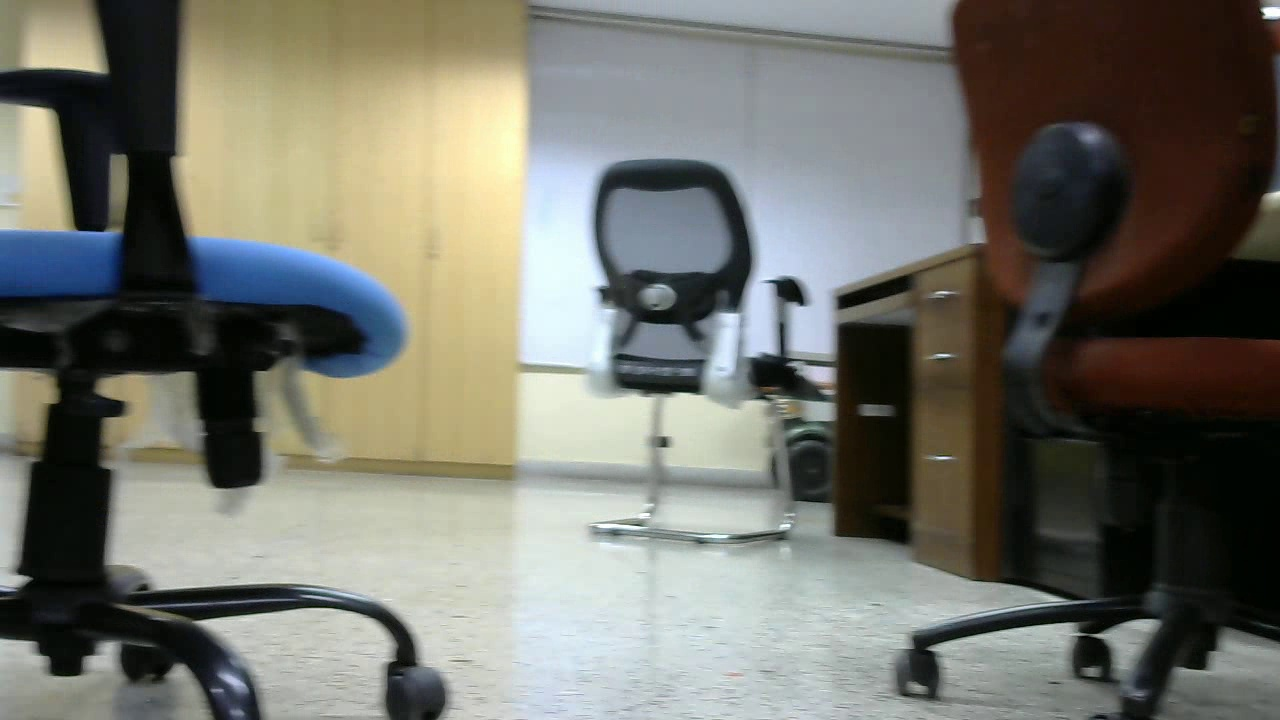chair: (898, 5, 1280, 720), (578, 146, 802, 547)
